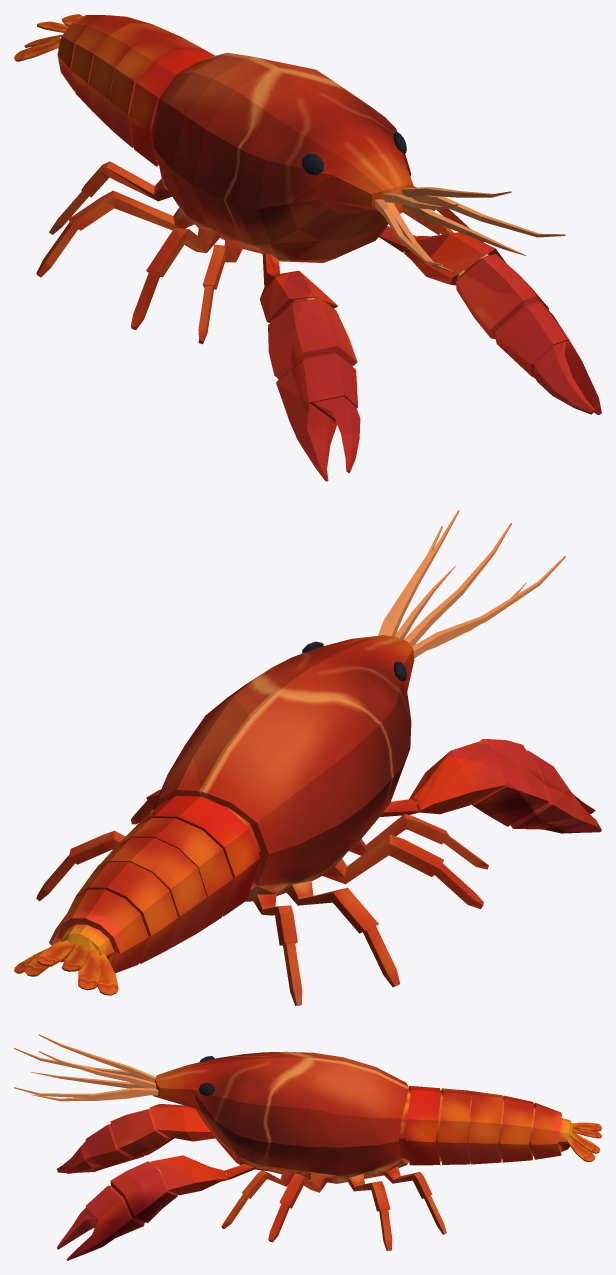
File: Crawfish.glb
3 renders of one model, top to bottom at view 1: azimuth 30°, elevation 25°; view 2: azimuth 150°, elevation 25°; view 3: azimuth 270°, elevation 25°, orthographic. The views are drawn at different scales.
Visible parts, largest first — view 1: Node; view 2: Node; view 3: Node.
Boxes of the visible parts, <box> form: Node: <box>14,14,601,481</box>; Node: <box>14,510,601,1005</box>; Node: <box>14,1034,601,1260</box>.
Size of the model in its own units: 6.84 by 4.8 by 14.64.
4 materials, 2 textured.
